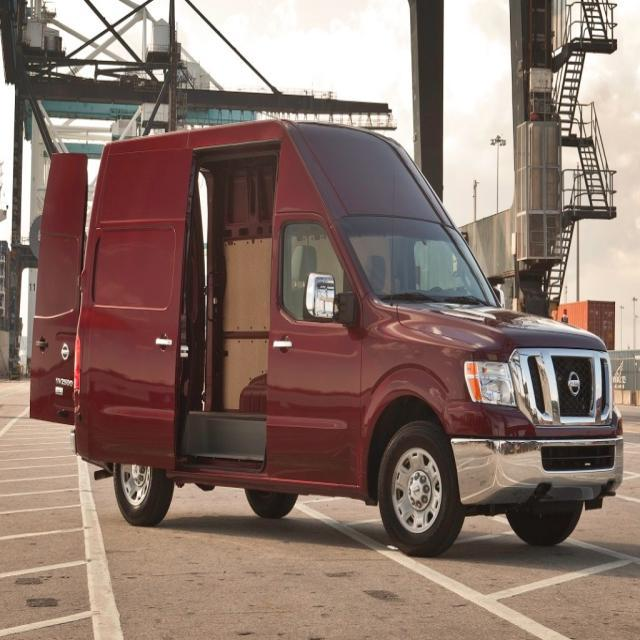truck: (31, 117, 624, 558)
